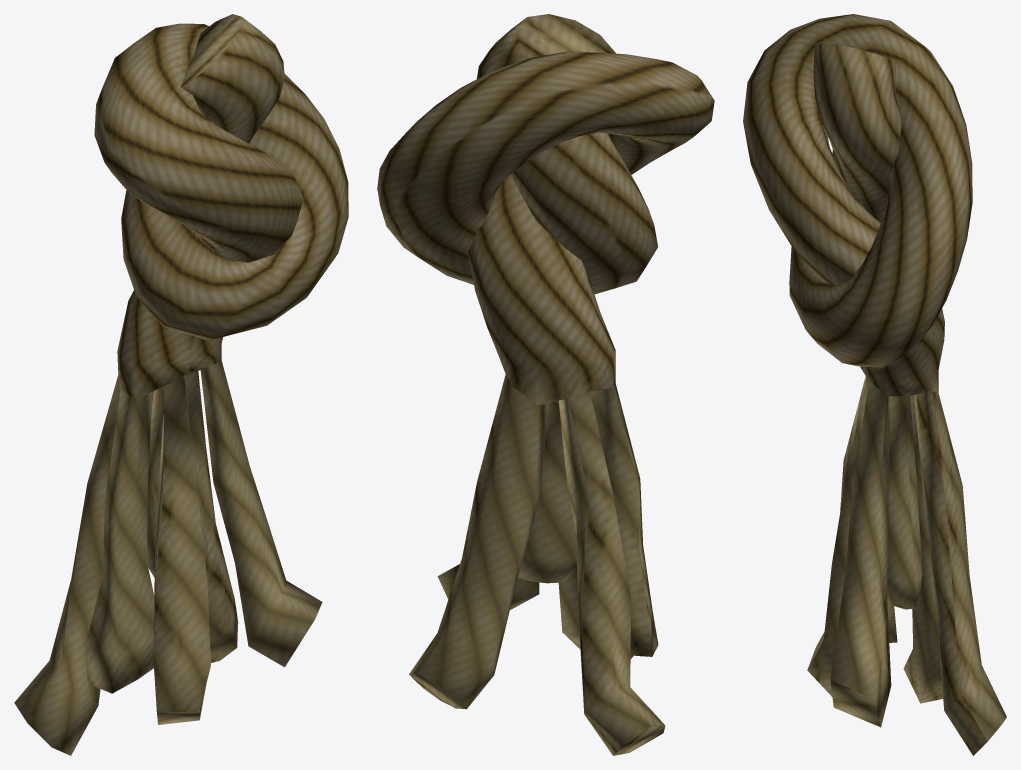
3 renders of one model, left to right at view 1: azimuth 30°, elevation 25°; view 2: azimuth 150°, elevation 25°; view 3: azimuth 270°, elevation 25°, orthographic. The views are drawn at different scales.
Parts seen in each view (by area): view 1: Line101_Material_0_0; view 2: Line101_Material_0_0; view 3: Line101_Material_0_0.
Part boxes in pixels (x1,y1,x2,y2): Line101_Material_0_0: (14,14,348,755); Line101_Material_0_0: (377,14,714,755); Line101_Material_0_0: (743,14,1006,755).
Size of the model in its own units: 0.072 by 0.1626 by 0.0539.
Materials: 1 (1 with a texture image).
